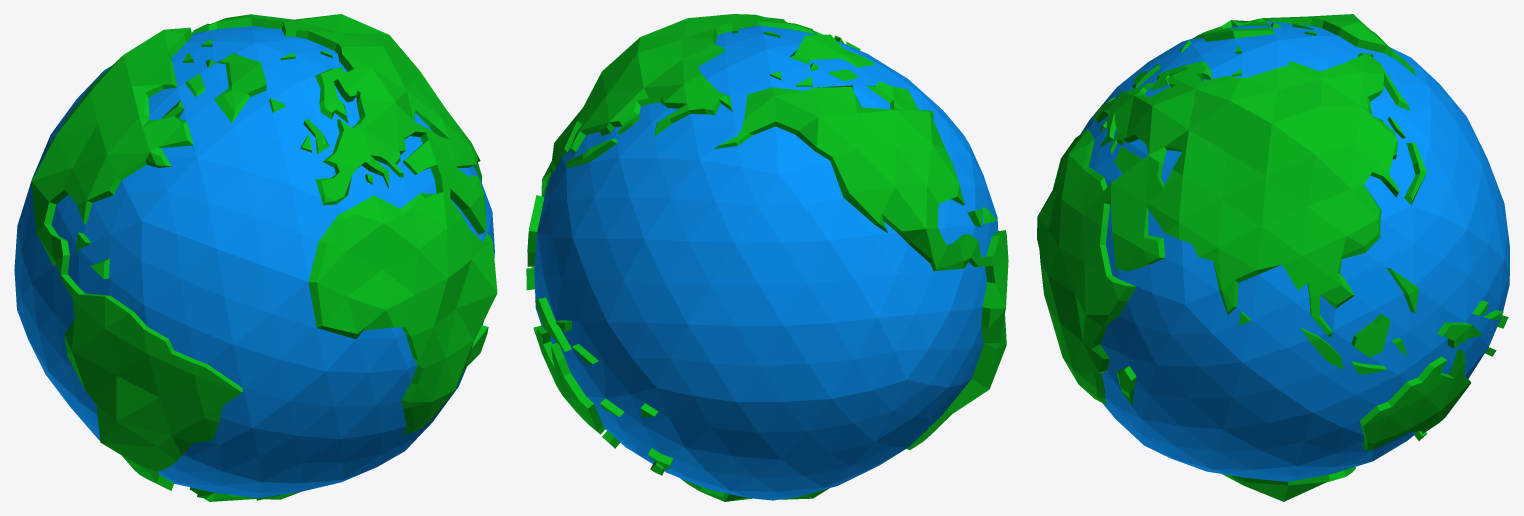
The model's file is earth.glb.
The picture shows the model from 3 angles, left to right: view 1: azimuth 30°, elevation 25°; view 2: azimuth 150°, elevation 25°; view 3: azimuth 270°, elevation 25°; orthographic projection. The views are drawn at different scales.
Visible parts, largest first — view 1: earth4; view 2: earth4; view 3: earth4.
Part boxes in pixels (left/top/right/bottom): earth4: left=14, top=14, right=497, bottom=501; earth4: left=526, top=14, right=1008, bottom=501; earth4: left=1037, top=14, right=1509, bottom=501.
Size of the model in its own units: 0.1733 by 0.1794 by 0.1729.
Materials: 2 (1 with a texture image).
